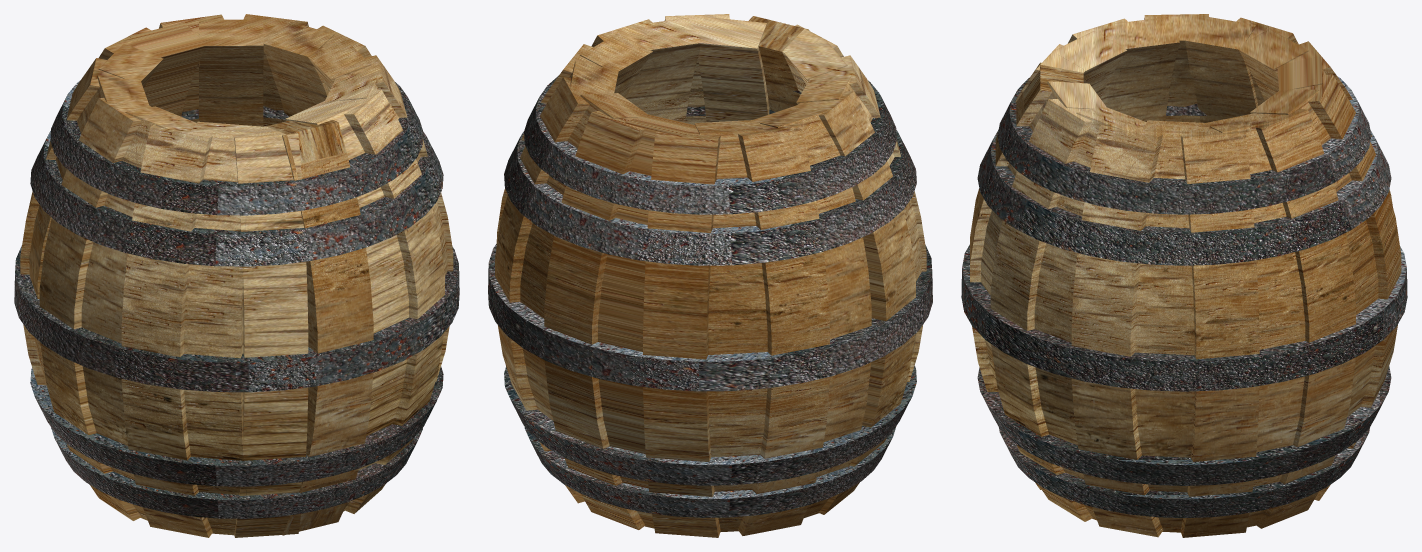
Rendered from Barrel.fbx.
3 renders of one model, left to right at view 1: azimuth 30°, elevation 25°; view 2: azimuth 150°, elevation 25°; view 3: azimuth 270°, elevation 25°, orthographic.
Visible parts, largest first — view 1: polySurface4; view 2: polySurface4; view 3: polySurface4.
Boxes of the visible parts, box(x1,y1,x2,y2) form: polySurface4: box(14, 14, 459, 537); polySurface4: box(488, 14, 932, 537); polySurface4: box(961, 14, 1407, 537).
Bounding box in the file's own units: 12.29 × 12.16 × 12.29.
